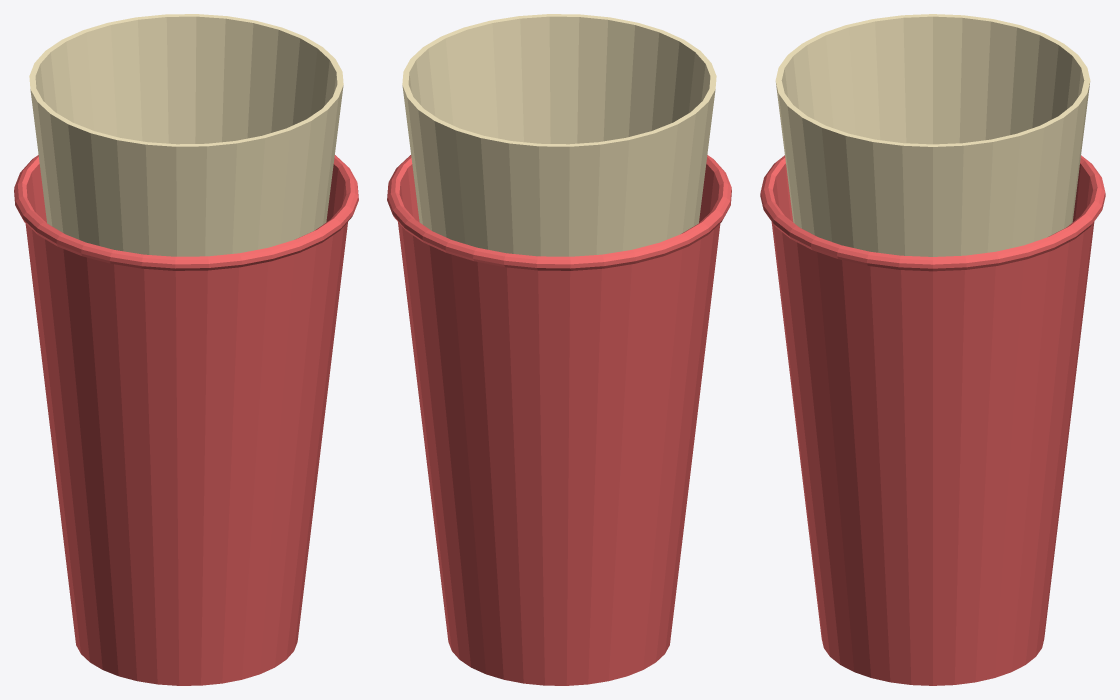
File: coffee_cup.glb
3 renders of one model, left to right at view 1: azimuth 30°, elevation 25°; view 2: azimuth 150°, elevation 25°; view 3: azimuth 270°, elevation 25°, orthographic.
Parts seen in each view (by area): view 1: world; view 2: world; view 3: world.
Boxes of the visible parts, x1=… form: world: x1=14, y1=14, x2=358, y2=685; world: x1=387, y1=14, x2=731, y2=685; world: x1=760, y1=14, x2=1105, y2=685.
Bounding box in the file's own units: 3.1 × 5.53 × 3.1.
